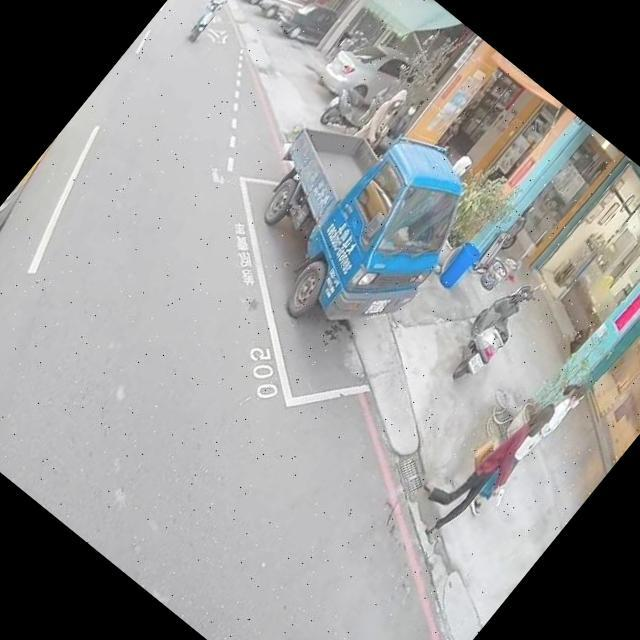person: (403, 368, 578, 558), (448, 366, 592, 530), (352, 81, 414, 150), (368, 92, 428, 160), (445, 148, 483, 186), (206, 0, 231, 13)
